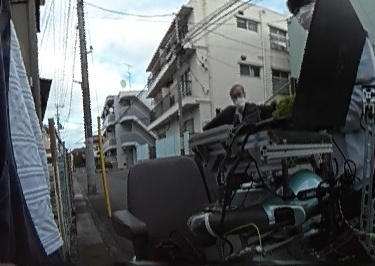person: (227, 83, 268, 126)
